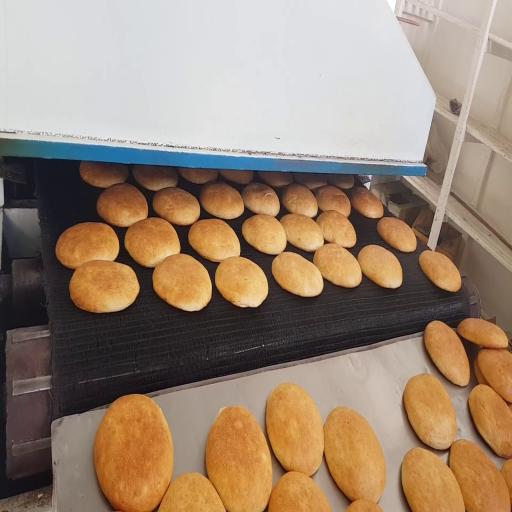bread: (94, 395, 173, 511), (206, 407, 272, 511), (325, 407, 386, 502), (266, 383, 323, 476), (450, 440, 510, 511), (402, 448, 464, 511), (404, 374, 456, 449), (70, 260, 139, 312), (153, 254, 211, 311), (469, 385, 511, 458), (424, 321, 470, 386), (56, 222, 119, 269), (125, 218, 180, 267), (215, 257, 268, 307), (159, 473, 225, 511), (268, 472, 331, 511), (272, 252, 323, 297), (97, 183, 148, 227), (188, 220, 240, 262), (314, 244, 361, 288), (358, 245, 402, 288), (478, 348, 511, 402), (419, 250, 461, 292), (242, 214, 286, 254), (153, 188, 200, 225), (200, 182, 244, 219), (280, 214, 323, 251), (457, 318, 508, 348), (316, 211, 356, 247), (79, 161, 129, 188), (377, 218, 416, 252), (242, 183, 280, 216), (282, 184, 317, 218), (133, 165, 177, 191), (315, 185, 350, 217), (351, 187, 383, 218), (179, 168, 217, 184), (294, 173, 326, 190), (259, 172, 293, 187), (219, 170, 254, 184), (347, 499, 382, 511), (501, 460, 511, 501), (327, 174, 354, 189), (474, 357, 488, 385)
